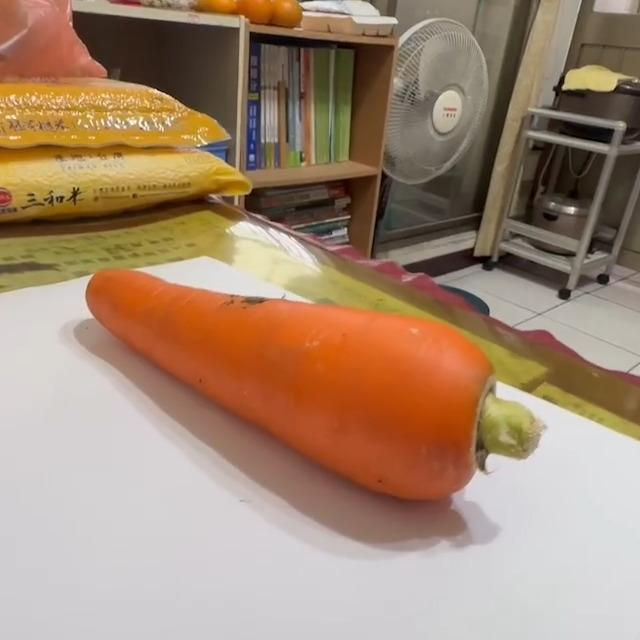carrot: (84, 266, 543, 506)
